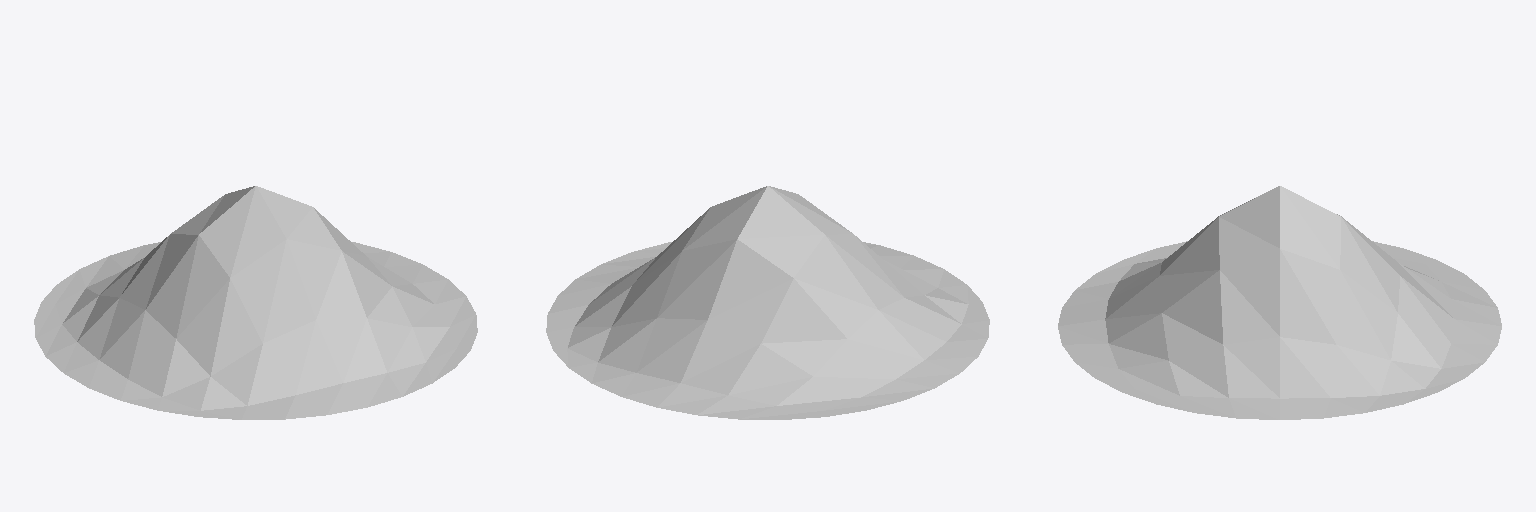
Rendered from circleMountain.obj.
3 views of the same model, side by side, from view 1: azimuth 30°, elevation 25°; view 2: azimuth 150°, elevation 25°; view 3: azimuth 270°, elevation 25° (orthographic).
Parts seen in each view (by area): view 1: Circle_Circle.001; view 2: Circle_Circle.001; view 3: Circle_Circle.001.
Boxes of the visible parts, x1,y1,x2,y2 form: Circle_Circle.001: [34, 186, 477, 419]; Circle_Circle.001: [546, 186, 989, 419]; Circle_Circle.001: [1058, 186, 1501, 419].
Bounding box in the file's own units: 2 × 0.6987 × 2.